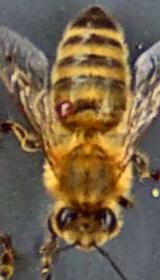varroa_mite: (50, 88, 78, 128)
